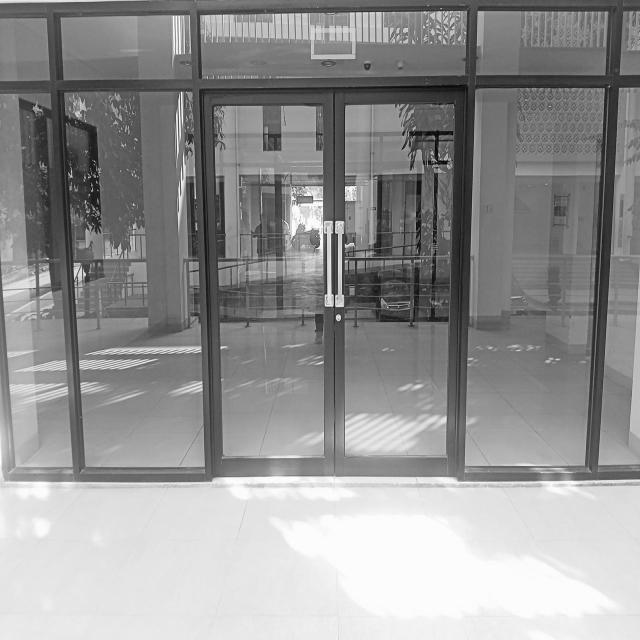door: (196, 81, 476, 482)
